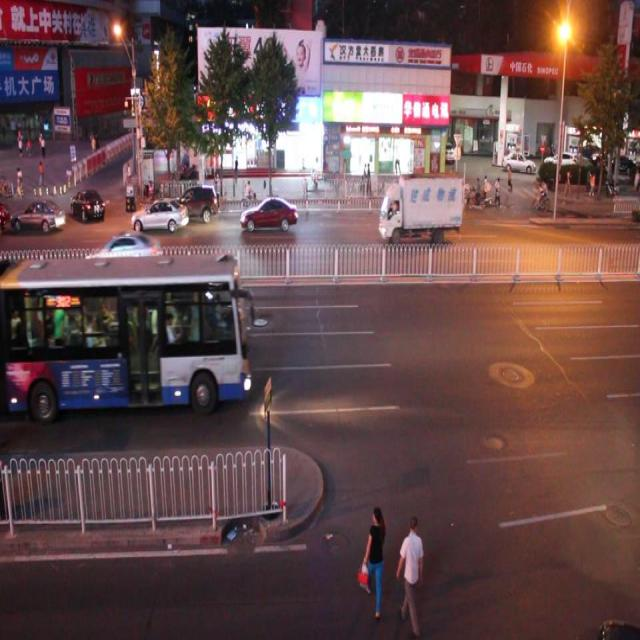bus: (379, 175, 462, 242)
car: (87, 233, 164, 279), (238, 196, 298, 233), (132, 196, 189, 234), (171, 181, 218, 223), (13, 197, 66, 234), (70, 187, 104, 222)
van: (1, 255, 248, 411)
